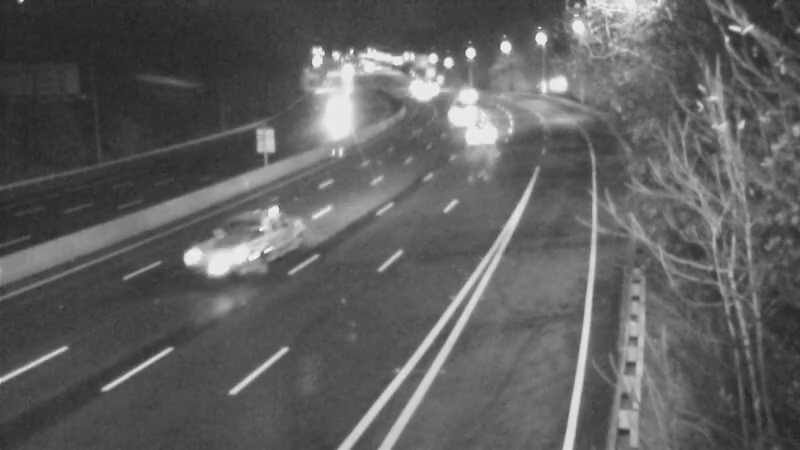vehicle: (200, 196, 280, 276), (443, 67, 493, 117), (437, 88, 487, 138), (457, 110, 507, 160), (313, 103, 363, 153)
